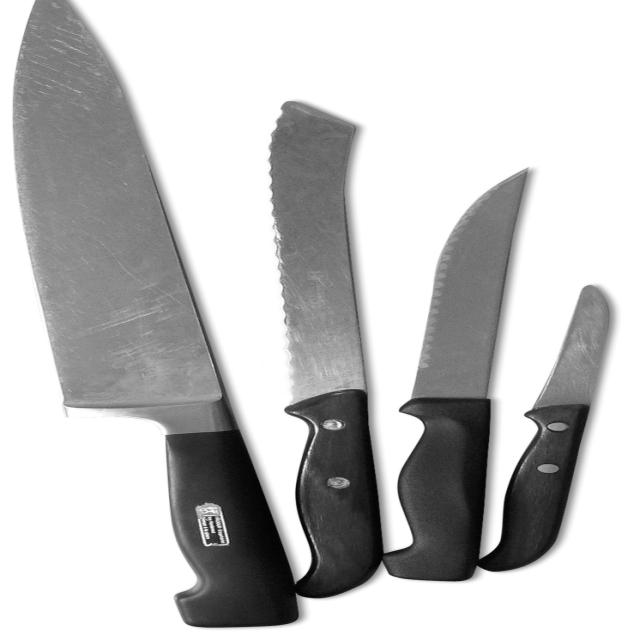Weapon: (384, 170, 526, 580), (272, 102, 382, 597)
